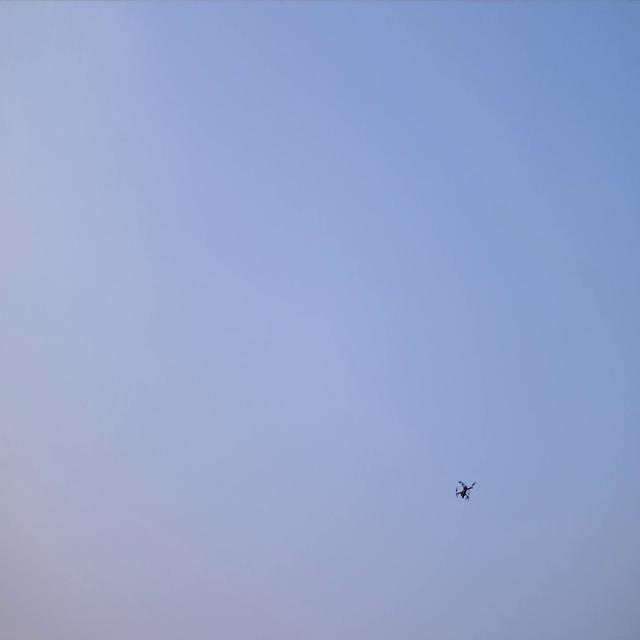UAV: (456, 482, 474, 498)
